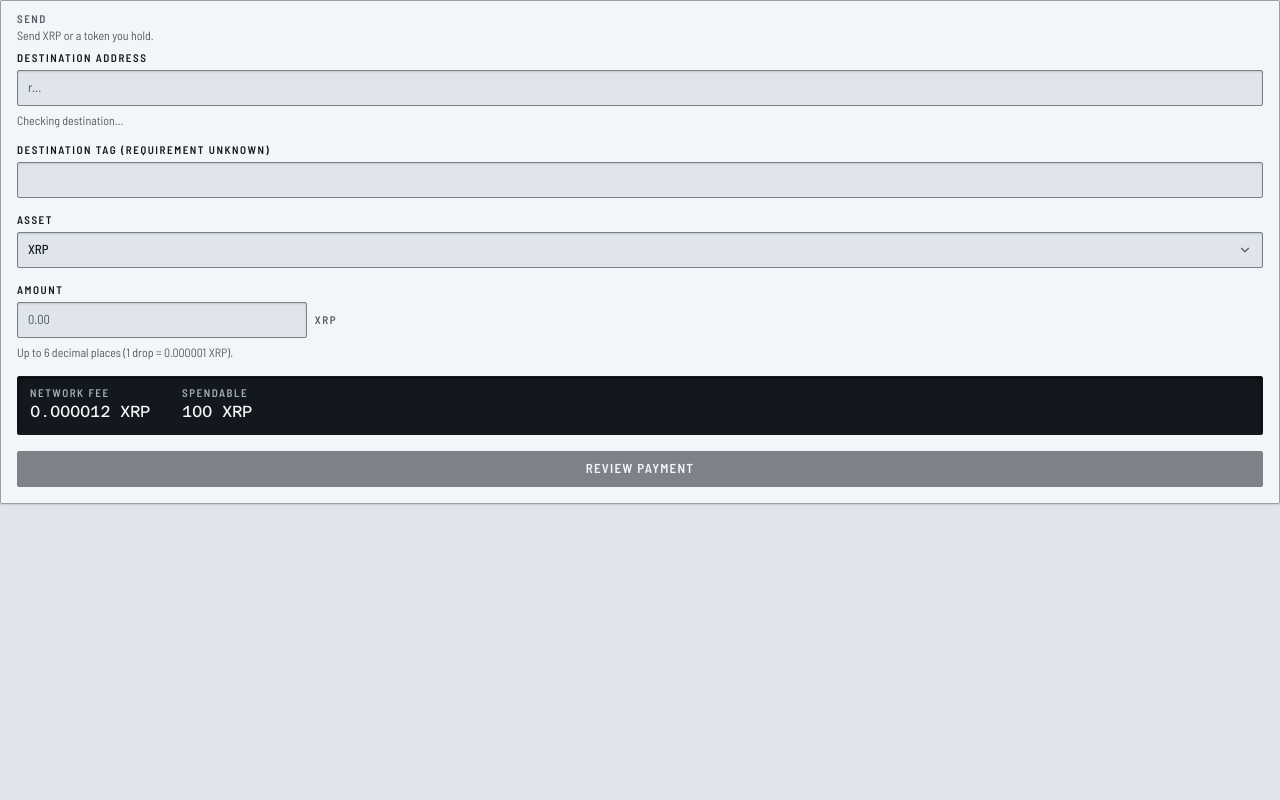
SendTab — only a fresh successful check for this input permits a send › never lets the freshness clock run backwards
This screenshot has width=1280, height=800.
In the field labelled "Destination address": (640, 88) [17, 70, 1263, 106], type "rHb9CJAWyB4rj91VRWn96DkukG4bwdtyTh"
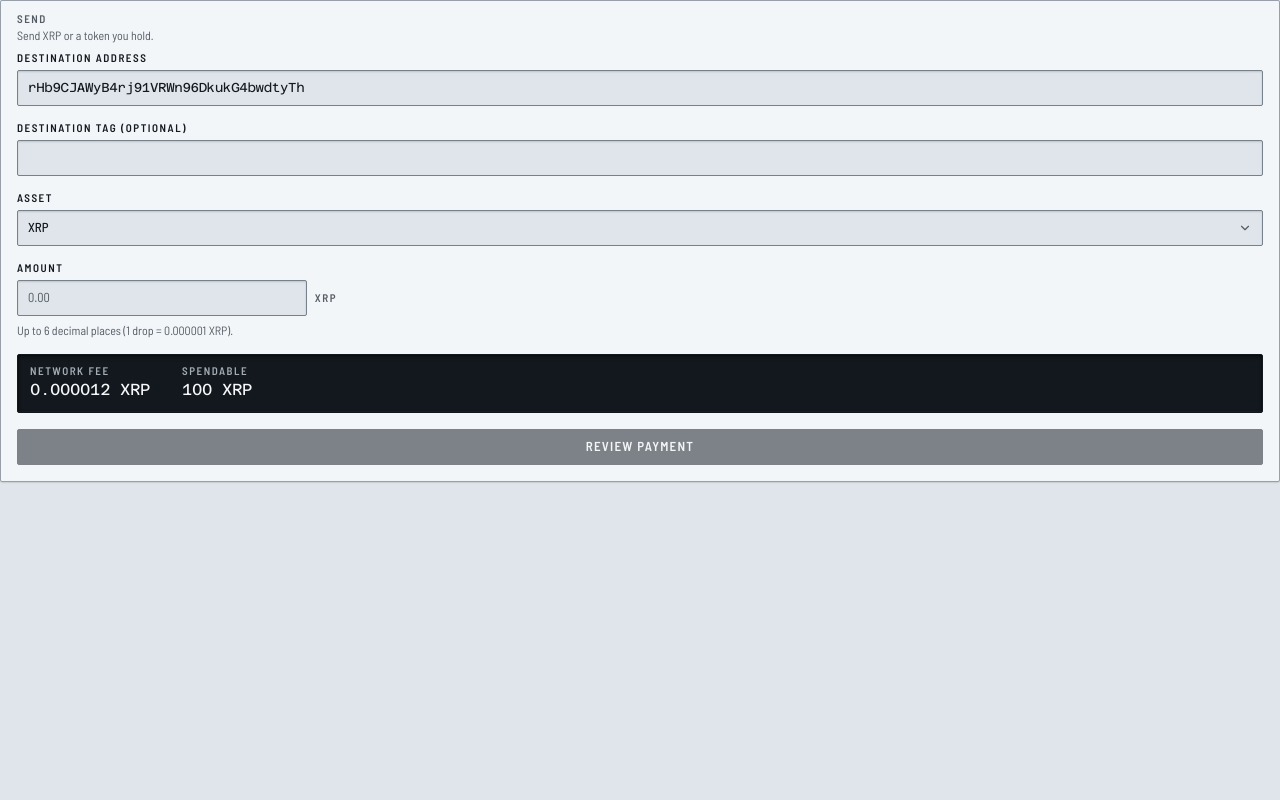
In the field labelled "Amount": (162, 298) [17, 280, 307, 316], type "1"
Wait 31000 ms
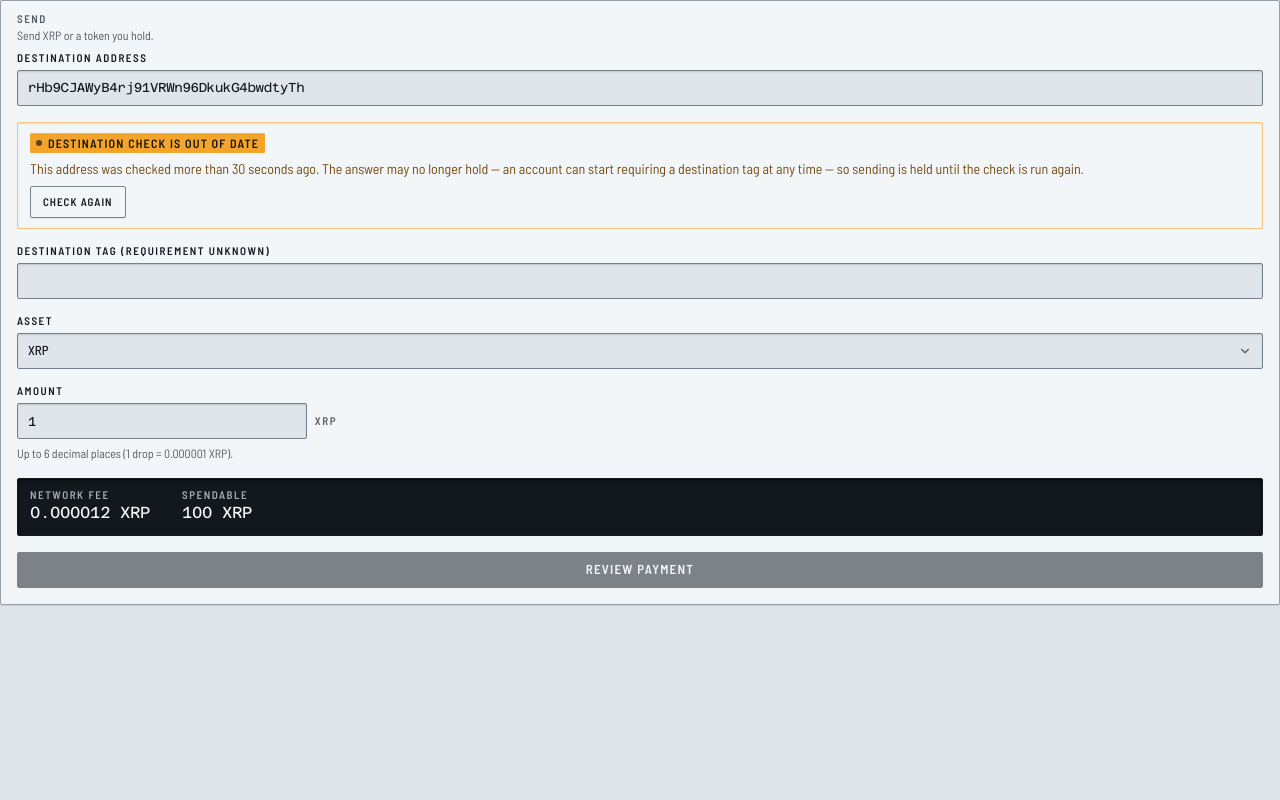
Check: the button "Review payment" is disabled, box [17, 552, 1263, 588]
Check: the text "Destination check is out of date" is shown, box [30, 133, 265, 153]
